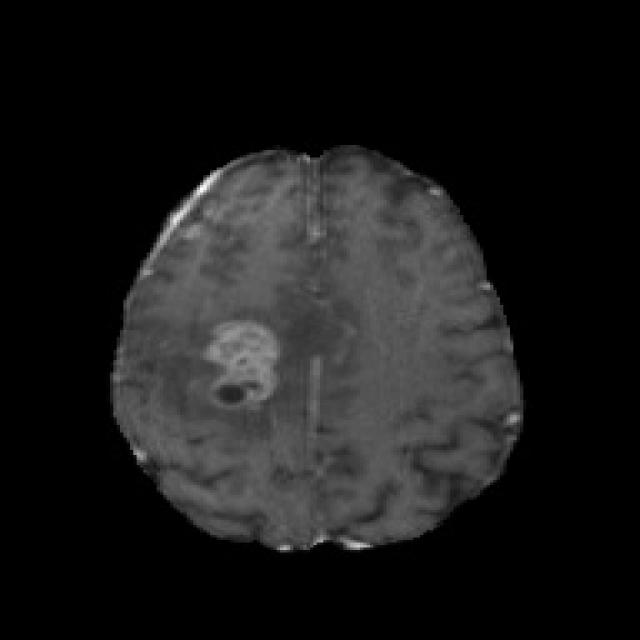positive: (205, 322, 278, 410)
